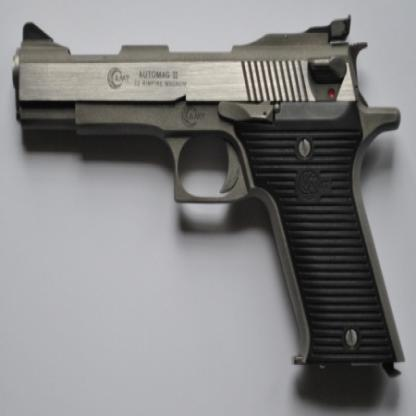Guns: (9, 6, 407, 376)
